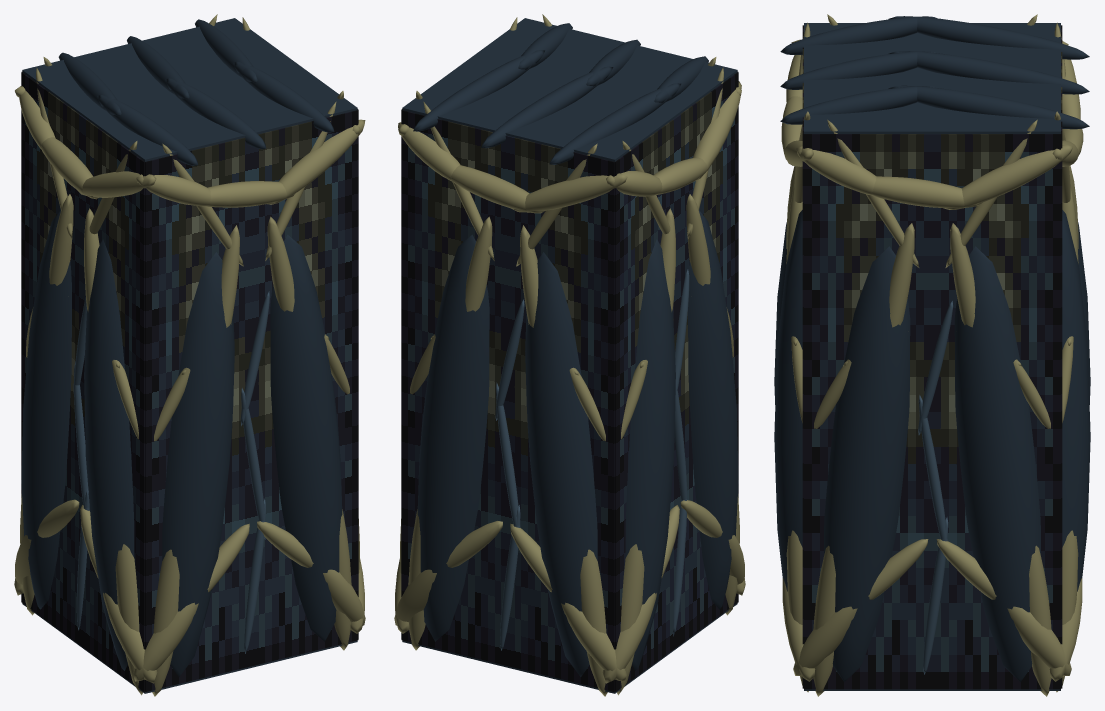
Rendered from CMU3DHiveWallXenoResinReflective.glb.
3 views of the same model, side by side, from view 1: azimuth 30°, elevation 25°; view 2: azimuth 150°, elevation 25°; view 3: azimuth 270°, elevation 25° (orthographic). The views are drawn at different scales.
Parts seen in each view (by area): view 1: broad exoskeletal fold (×4), source resin skin front and rear, source resin skin sides, continuous resin backing, arching load-bearing tendon (×11), sealed roof fold (×6), crown collar (×6), lower root buttress (×7), central interlocking seam (×6), branching surface crease (×3); view 2: broad exoskeletal fold (×4), source resin skin front and rear, source resin skin sides, continuous resin backing, arching load-bearing tendon (×11), sealed roof fold (×6), crown collar (×6), lower root buttress (×7), central interlocking seam (×6), branching surface crease (×3); view 3: source resin skin sides, broad exoskeletal fold (×6), continuous resin backing, sealed roof fold (×6), arching load-bearing tendon (×8), crown collar (×6), lower root buttress (×6), central interlocking seam (×3), branching surface crease (×4), source resin skin front and rear (×2).
Boxes of the visible parts, <box> form: broad exoskeletal fold (×4): <box>21,210,342,676</box>; source resin skin front and rear: <box>145,110,358,691</box>; source resin skin sides: <box>21,72,144,691</box>; continuous resin backing: <box>22,18,357,693</box>; arching load-bearing tendon (×11): <box>36,67,351,696</box>; sealed roof fold (×6): <box>58,19,334,165</box>; crown collar (×6): <box>19,90,365,207</box>; lower root buttress (×7): <box>15,499,365,683</box>; central interlocking seam (×6): <box>73,291,269,653</box>; branching surface crease (×3): <box>112,334,349,441</box>; broad exoskeletal fold (×4): <box>417,210,738,676</box>; source resin skin front and rear: <box>401,110,614,691</box>; source resin skin sides: <box>615,72,738,691</box>; continuous resin backing: <box>402,18,737,693</box>; arching load-bearing tendon (×11): <box>408,67,723,696</box>; sealed roof fold (×6): <box>413,23,708,164</box>; crown collar (×6): <box>398,81,741,213</box>; lower root buttress (×7): <box>394,500,744,683</box>; central interlocking seam (×6): <box>495,269,689,650</box>; branching surface crease (×3): <box>410,334,647,441</box>; source resin skin sides: <box>804,134,1060,689</box>; broad exoskeletal fold (×6): <box>774,210,1090,681</box>; continuous resin backing: <box>804,23,1060,690</box>; sealed roof fold (×6): <box>780,16,1089,129</box>; arching load-bearing tendon (×8): <box>786,119,1078,696</box>; crown collar (×6): <box>781,40,1080,209</box>; lower root buttress (×6): <box>782,539,1082,681</box>; central interlocking seam (×3): <box>918,301,953,674</box>; branching surface crease (×4): <box>791,336,1073,428</box>; source resin skin front and rear (×2): <box>802,25,1062,688</box>.
Bounding box in the file's own units: 1.23 × 2.5 × 1.23.
4 materials, 1 textured.
